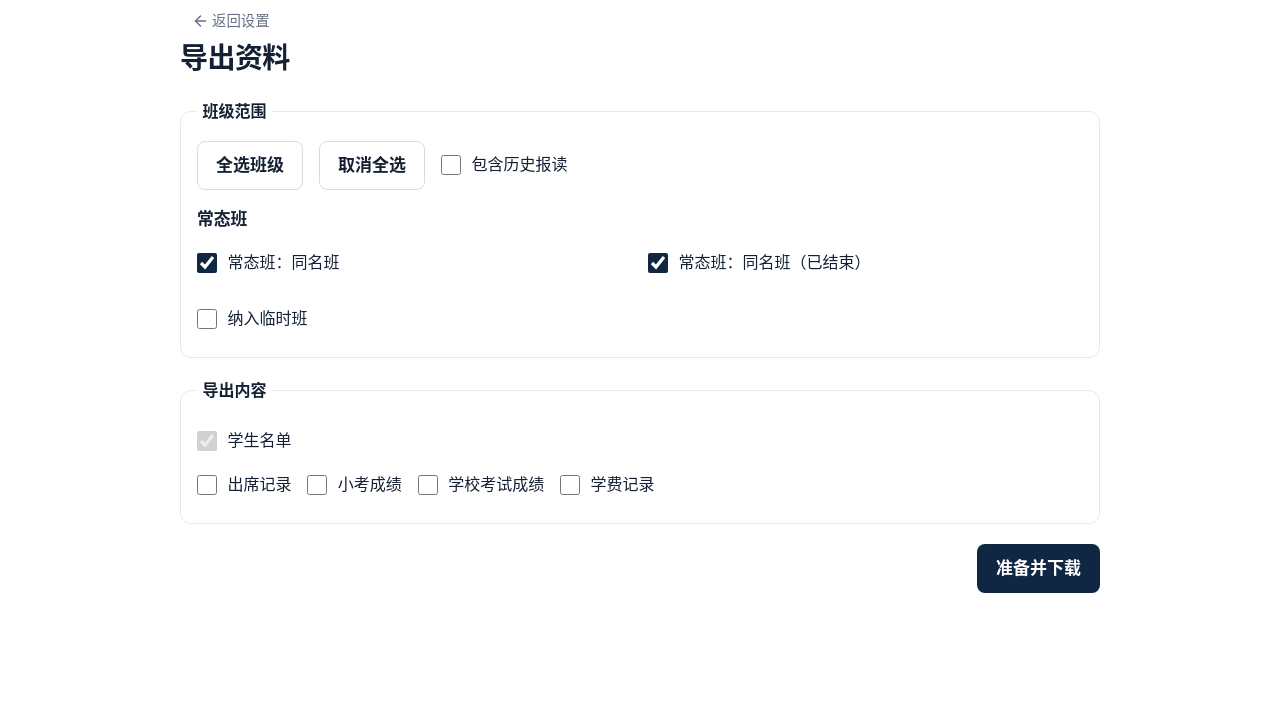
defaults to all regular classes, four-column roster only and no temporary read
Expected: the checkbox labelled "常态班：同名班（已结束）" is shown, [648,253,668,273]
Click the button "准备并下载". click: (1038, 569)
box: [977,544,1100,594]
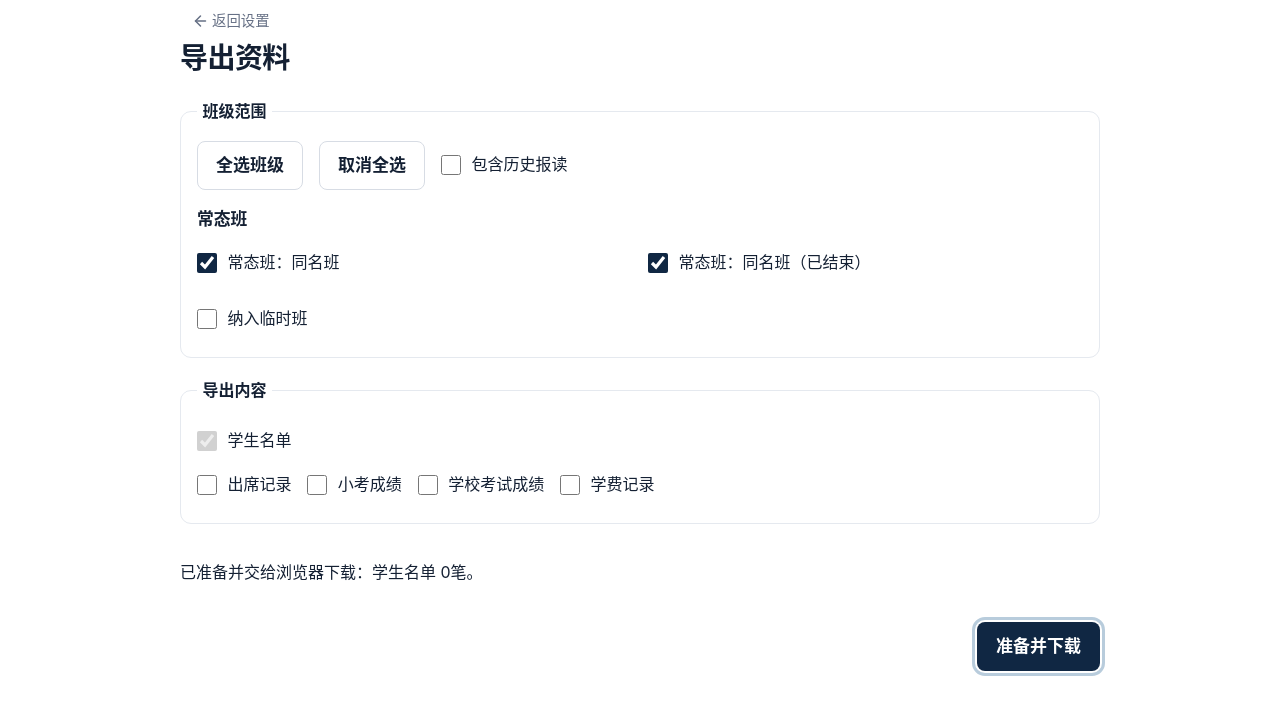
Result: the message shows "已准备并交给浏览器下载" at [180,562,483,582]
